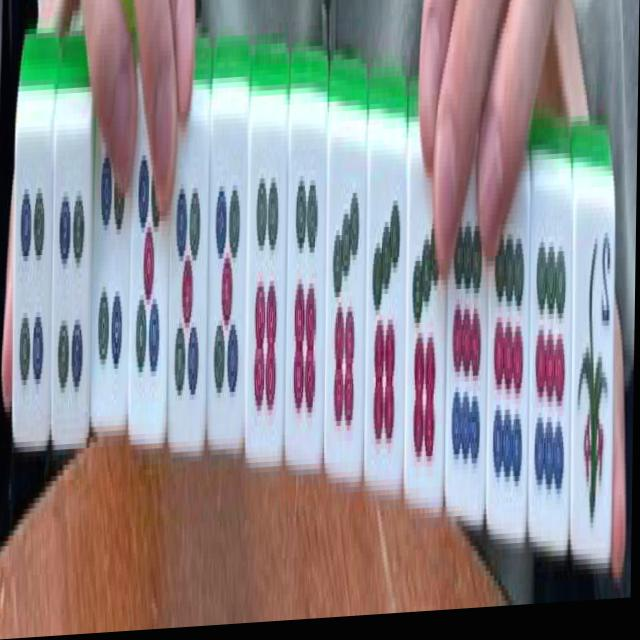2F: (569, 219, 615, 555)
4D: (14, 153, 53, 430), (53, 151, 90, 425), (94, 139, 132, 402)
5D: (167, 129, 210, 442), (208, 122, 247, 427), (134, 116, 167, 432)
6D: (246, 123, 287, 462), (285, 133, 325, 462)
7D: (325, 146, 367, 472), (406, 170, 446, 501), (365, 175, 406, 484)
9D: (528, 202, 572, 533), (488, 201, 530, 512), (446, 180, 486, 502)
